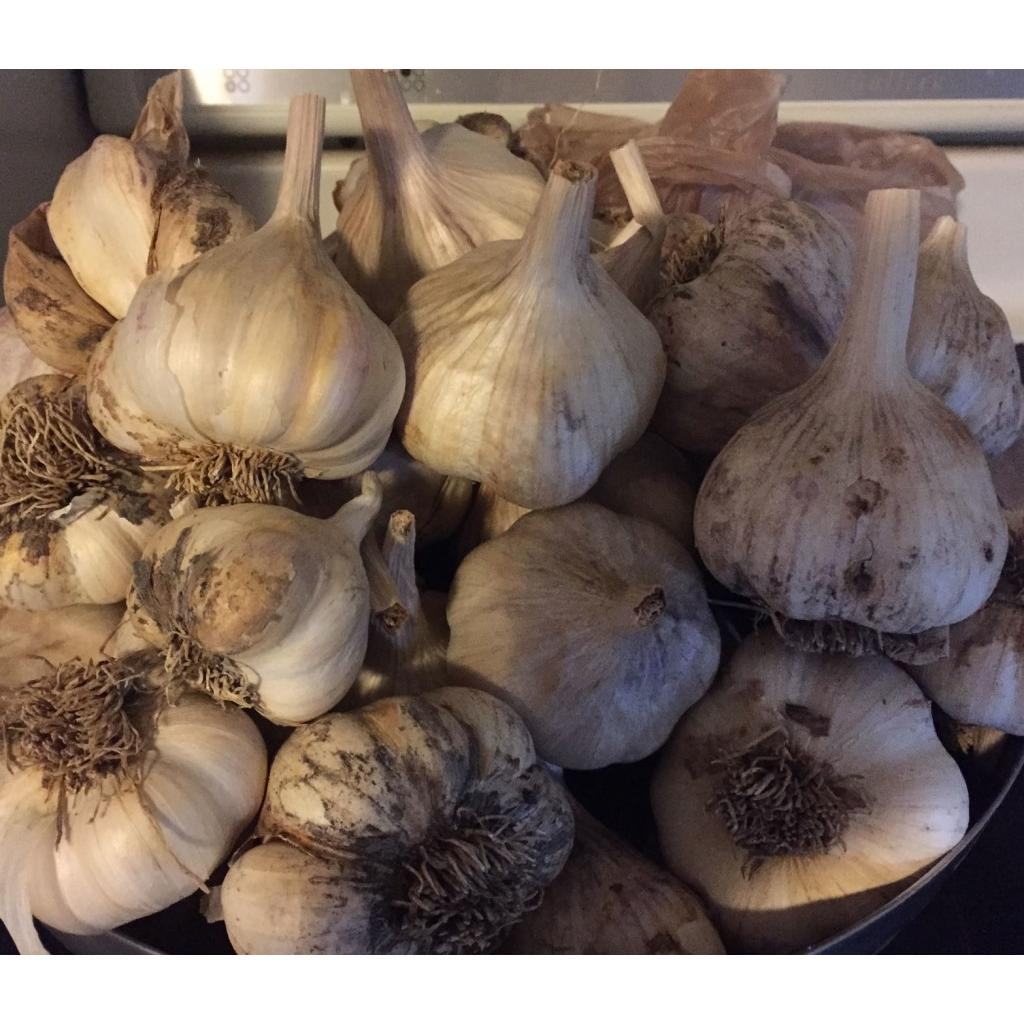garlic: (694, 188, 1006, 631), (106, 93, 403, 477), (651, 627, 967, 951), (390, 162, 664, 507), (219, 686, 572, 952), (0, 660, 265, 952), (446, 502, 718, 767), (127, 471, 379, 724)
